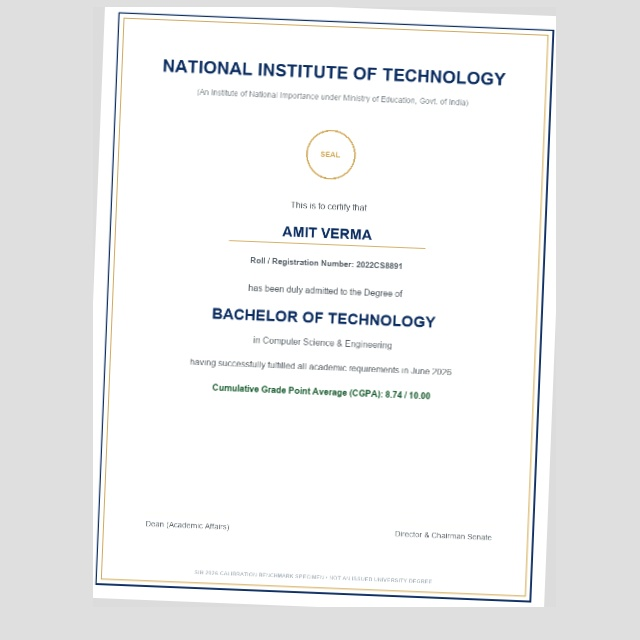marksheet: (93, 7, 556, 607)
